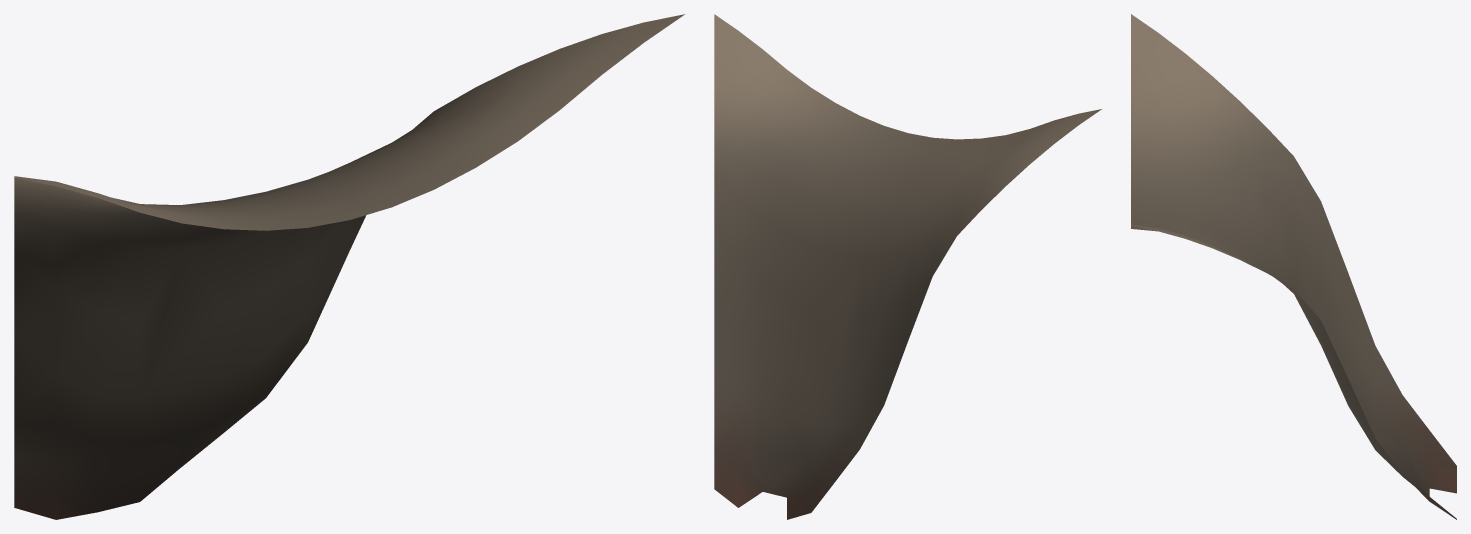
Rendered from MODULE_L2_CLIFF_SIDE.fbx.
3 renders of one model, left to right at view 1: azimuth 30°, elevation 25°; view 2: azimuth 150°, elevation 25°; view 3: azimuth 270°, elevation 25°, orthographic. The views are drawn at different scales.
Parts seen in each view (by area): view 1: MODULE_L2_CLIFF_SIDE__export; view 2: MODULE_L2_CLIFF_SIDE__export; view 3: MODULE_L2_CLIFF_SIDE__export.
Boxes of the visible parts, box(x1,y1,x2,y2) form: MODULE_L2_CLIFF_SIDE__export: box(14, 14, 685, 519); MODULE_L2_CLIFF_SIDE__export: box(714, 14, 1101, 519); MODULE_L2_CLIFF_SIDE__export: box(1131, 14, 1456, 519).
Size of the model in its own units: 100 by 85.11 by 64.95.
